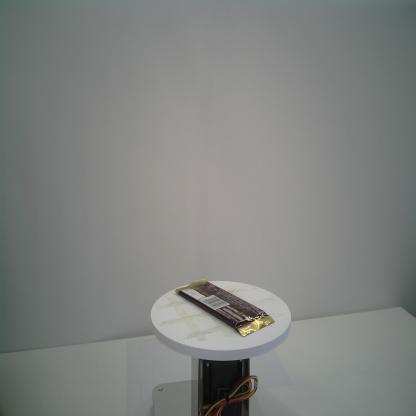Chocolate: (174, 276, 276, 338)
